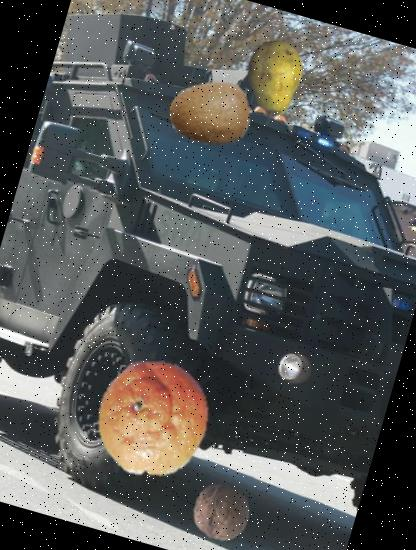Kiwi: (159, 61, 262, 164)
Mandarine: (81, 346, 226, 491)
Pear: (225, 30, 328, 134)
Walnut: (185, 477, 257, 549)
